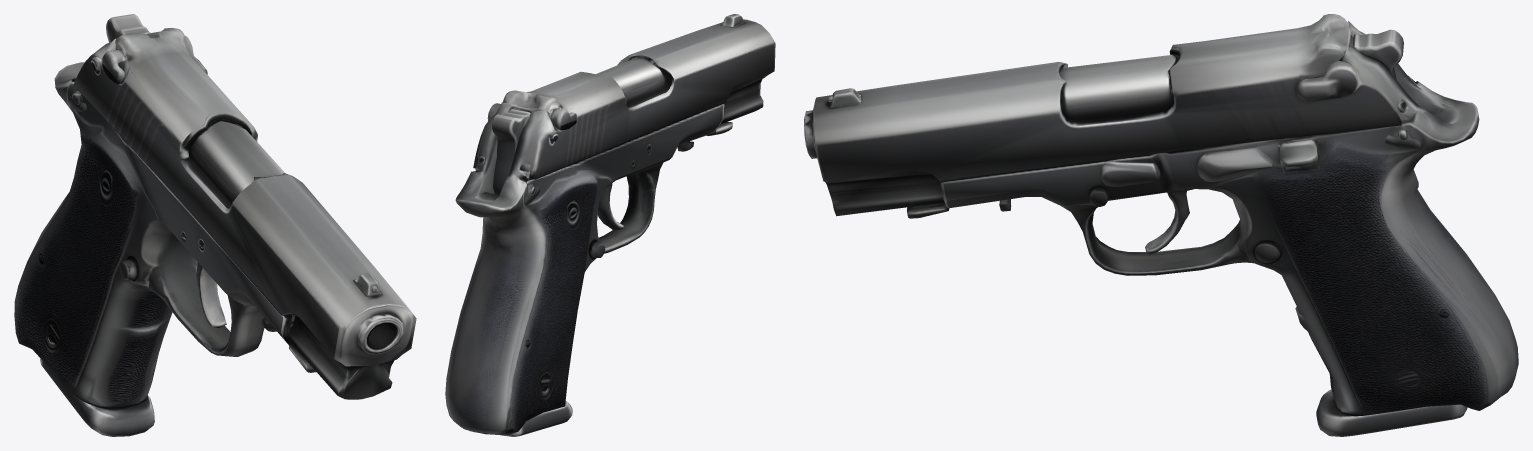
The model's file is pistol.glb.
The picture shows the model from 3 angles, left to right: view 1: azimuth 30°, elevation 25°; view 2: azimuth 150°, elevation 25°; view 3: azimuth 270°, elevation 25°; orthographic projection. The views are drawn at different scales.
Visible parts, largest first — view 1: tripo_node_980825b0-a098-46c4-bb22-b56a61dd7427; view 2: tripo_node_980825b0-a098-46c4-bb22-b56a61dd7427; view 3: tripo_node_980825b0-a098-46c4-bb22-b56a61dd7427.
Part boxes in pixels (x1,y1,x2,y2): tripo_node_980825b0-a098-46c4-bb22-b56a61dd7427: (14,14,416,436); tripo_node_980825b0-a098-46c4-bb22-b56a61dd7427: (445,14,775,436); tripo_node_980825b0-a098-46c4-bb22-b56a61dd7427: (804,14,1518,436).
Bounding box in the file's own units: 0.0362 × 0.1267 × 0.2.
Materials: 1 (1 with a texture image).
